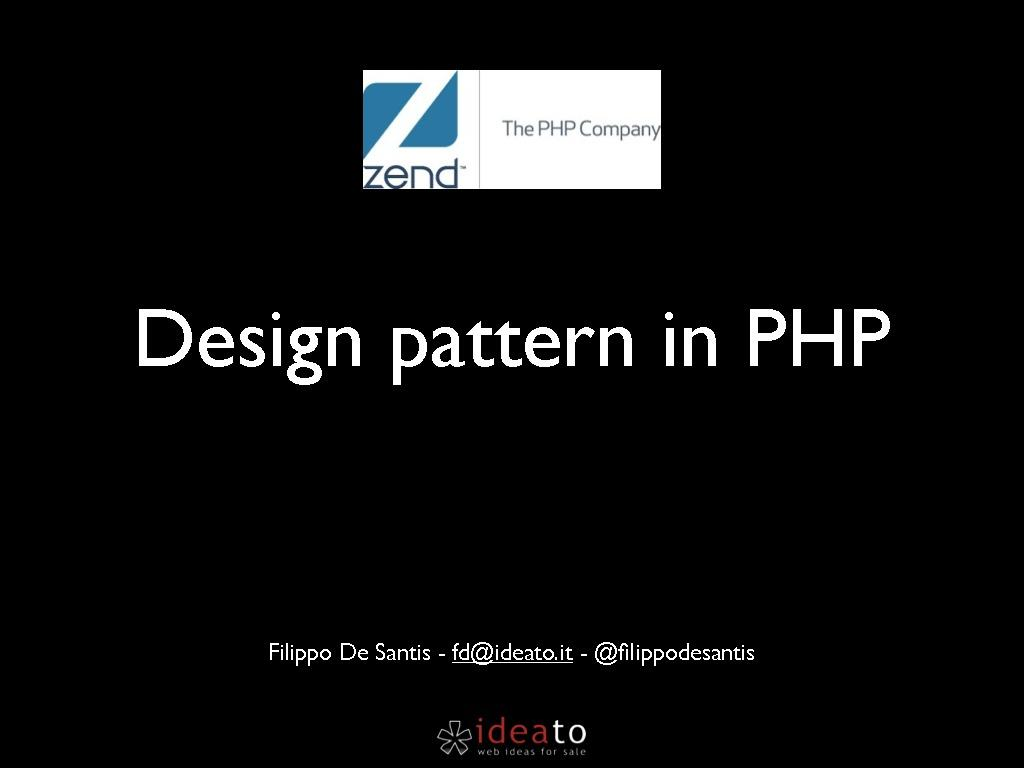subtitle: (264, 625, 781, 686)
title: (118, 252, 909, 402)
